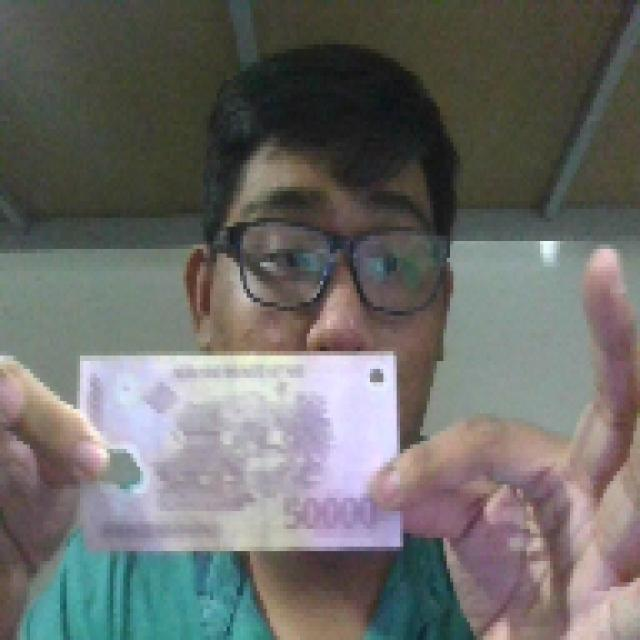50 000 VND: (73, 347, 407, 556)
